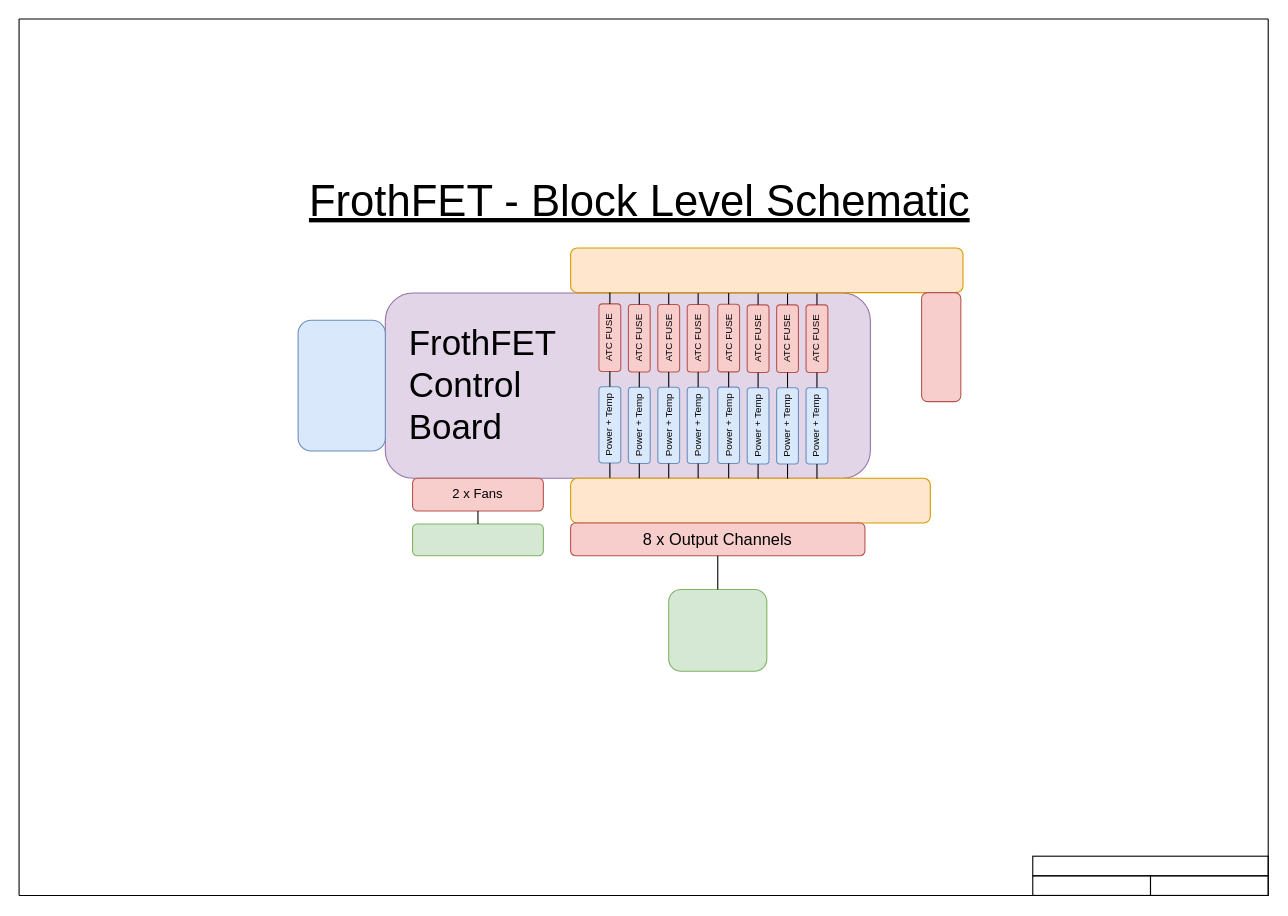
The diagram is 1288 pixels wide and 916 high, and some of its shapes have lost their labels. The shapes that lost their labels are listed below. From the top down, each one's centre as x and y in pixels, then its label:
At point (766, 270): "Positive Bus Bar (12/24v Input".
At point (941, 347): "Optional MEGA Fuse".
At point (341, 385): "USB + WiFi".
At point (750, 500): "Negative Bus Bar".
At point (477, 539): "5v Cooling Fans".
At point (717, 629): "Lights Motors Pumps Fans etc.".
At point (1091, 885): "09 Apr 2026".
At point (1150, 865): "Author: Zach Smith".
At point (1208, 885): "Revision F".
